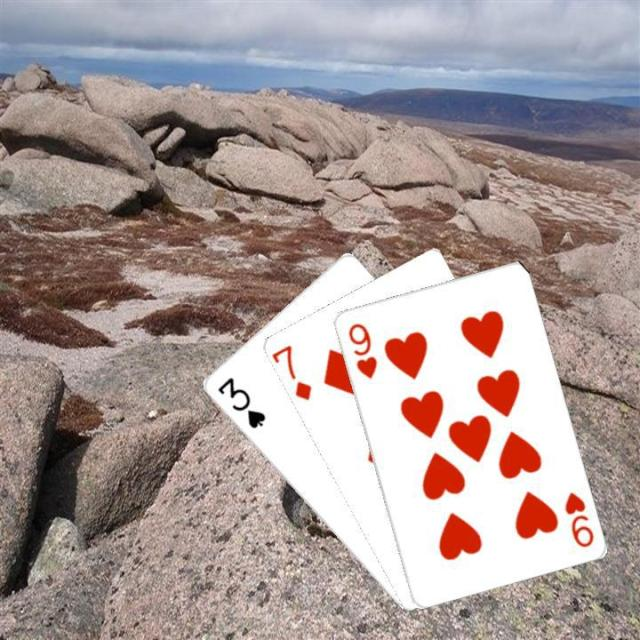3S: (214, 374, 268, 431)
7D: (269, 340, 314, 402)
9H: (343, 318, 379, 381), (560, 487, 596, 549)
